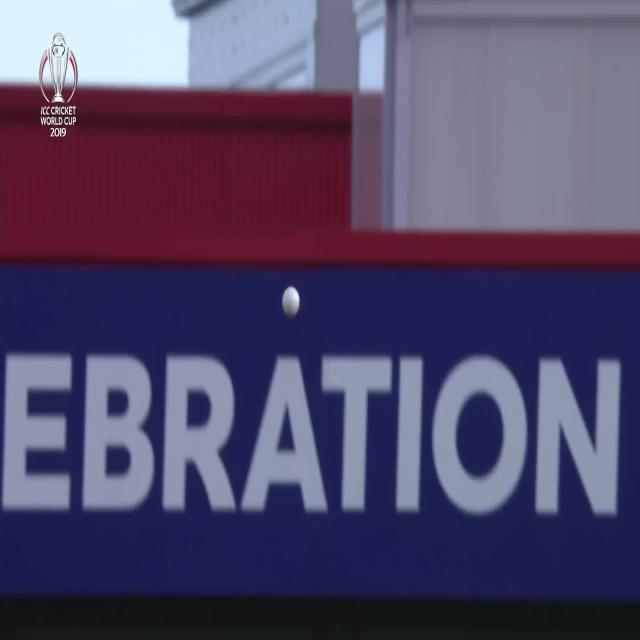ball: (275, 277, 309, 325)
